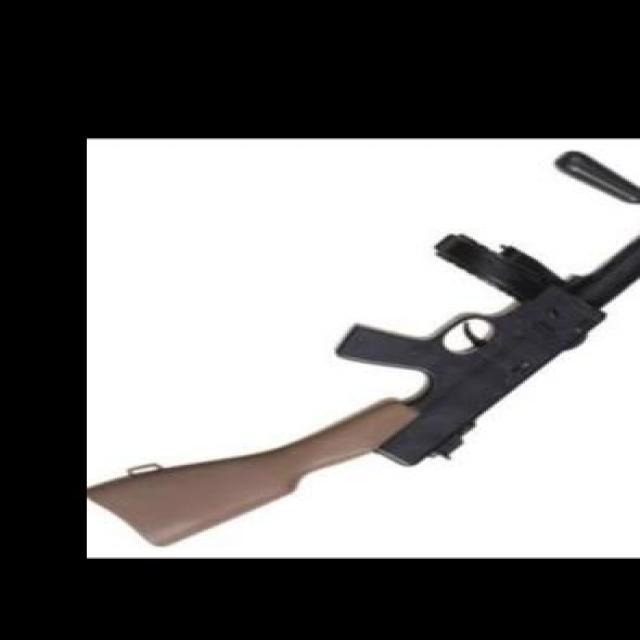weapon: (88, 147, 640, 548)
